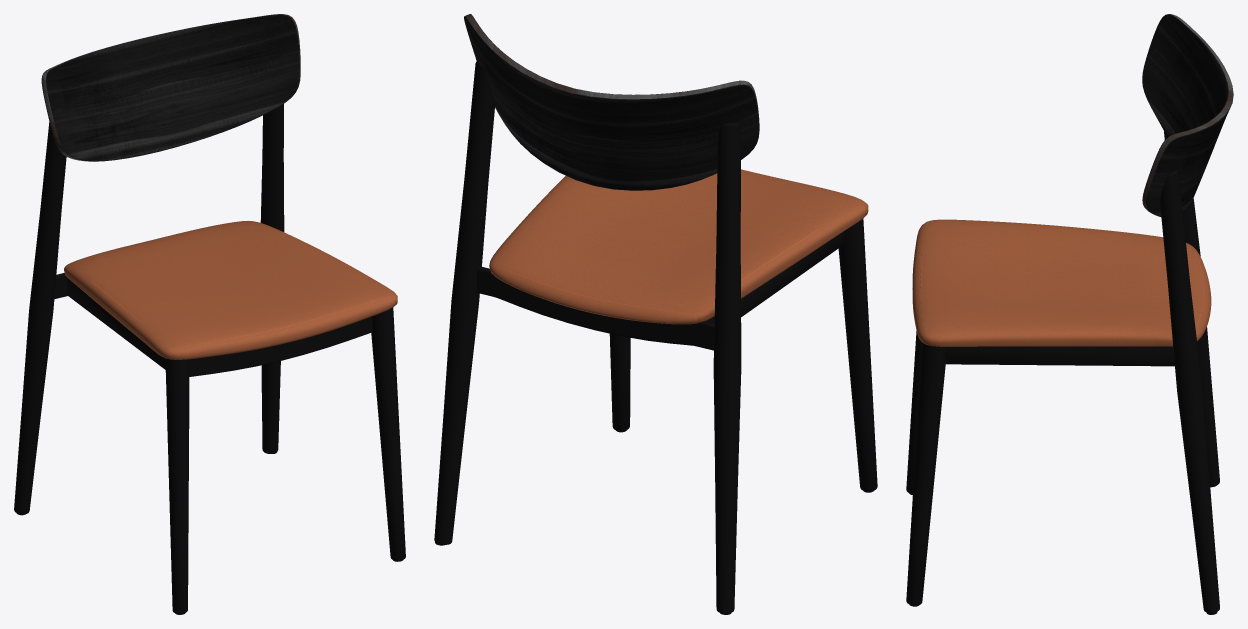
3 renders of one model, left to right at view 1: azimuth 30°, elevation 25°; view 2: azimuth 150°, elevation 25°; view 3: azimuth 270°, elevation 25°, orthographic. The views are drawn at different scales.
Parts seen in each view (by area): view 1: Chair_3; view 2: Chair_3; view 3: Chair_3.
Boxes of the visible parts, x1,y1,x2,y2 form: Chair_3: (14,14,405,614); Chair_3: (434,14,877,614); Chair_3: (906,14,1233,614).
Size of the model in its own units: 0.4953 by 0.8187 by 0.5125.
Materials: 1 (1 with a texture image).
